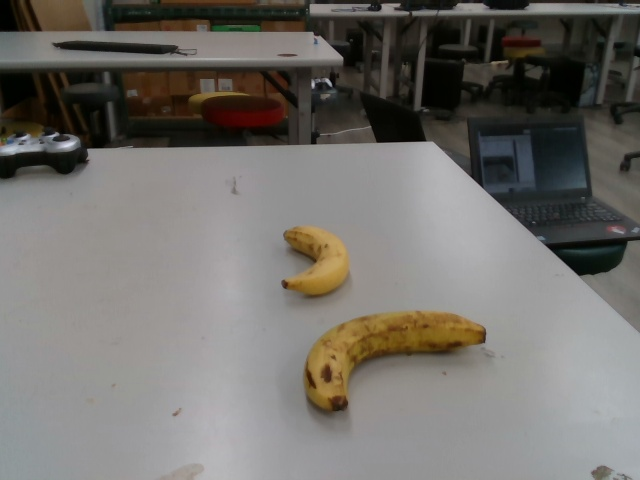banana: (303, 306, 485, 414), (268, 223, 350, 299)
